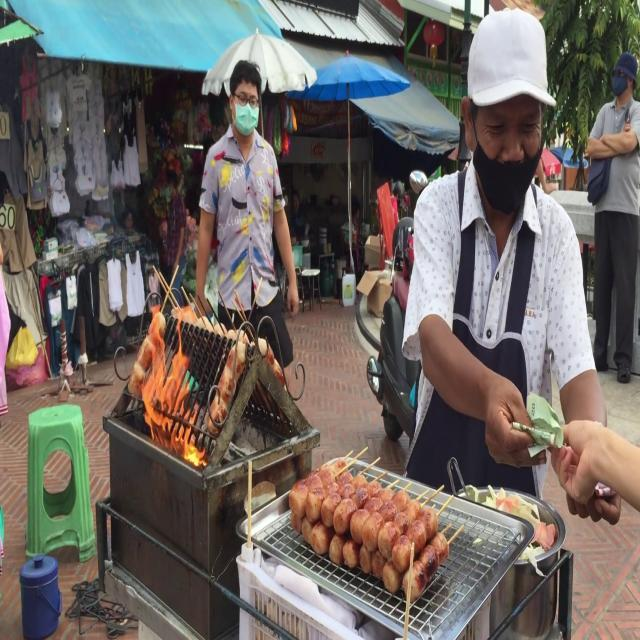Fire: (135, 308, 203, 468)
